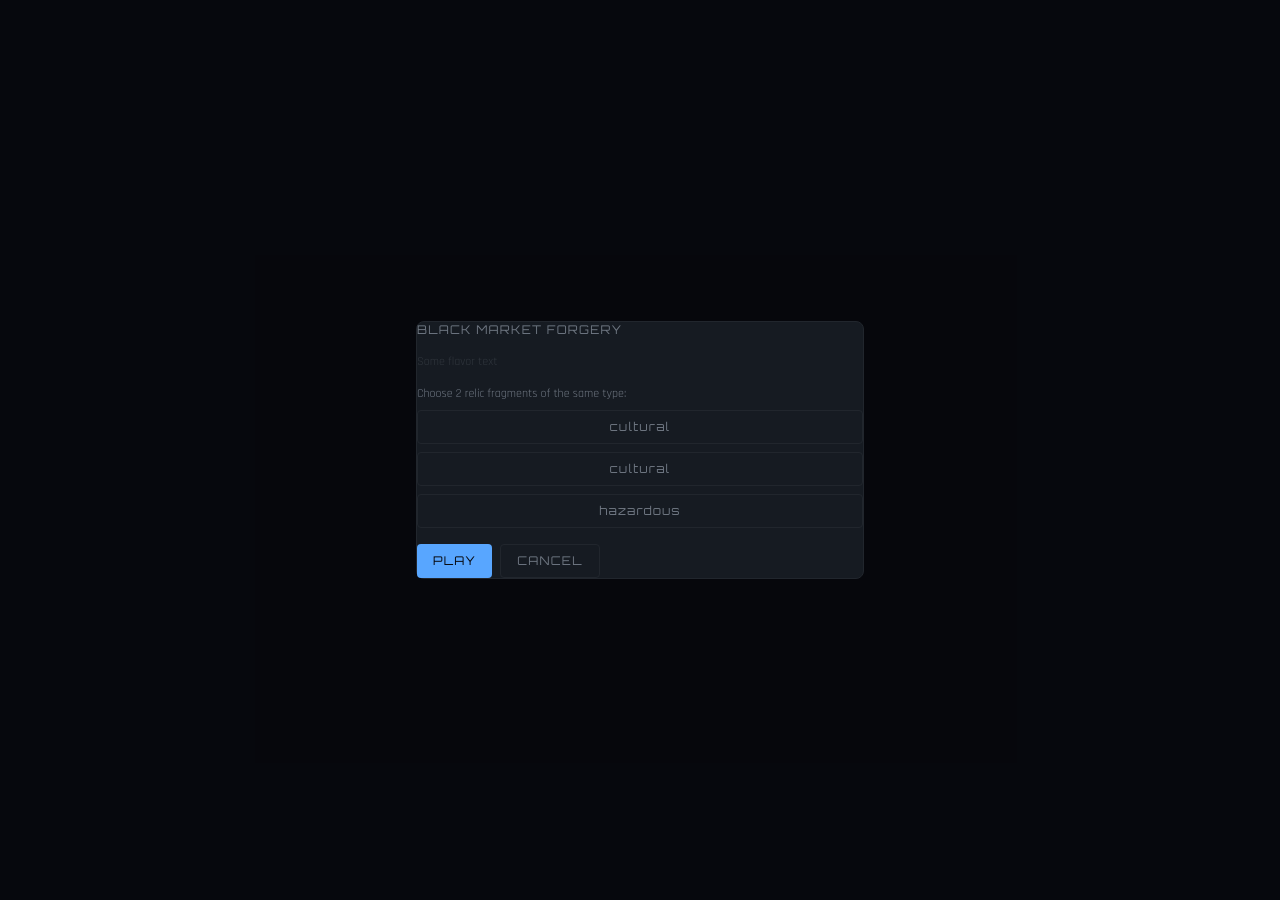
PlayPromissoryNoteModal › clicking PLAY with 2 different-type fragments shows type mismatch error
This screenshot has width=1280, height=900.
Click the 1st button "cultural".
click(640, 427)  # box top-left (417, 410), bottom-right (863, 444)
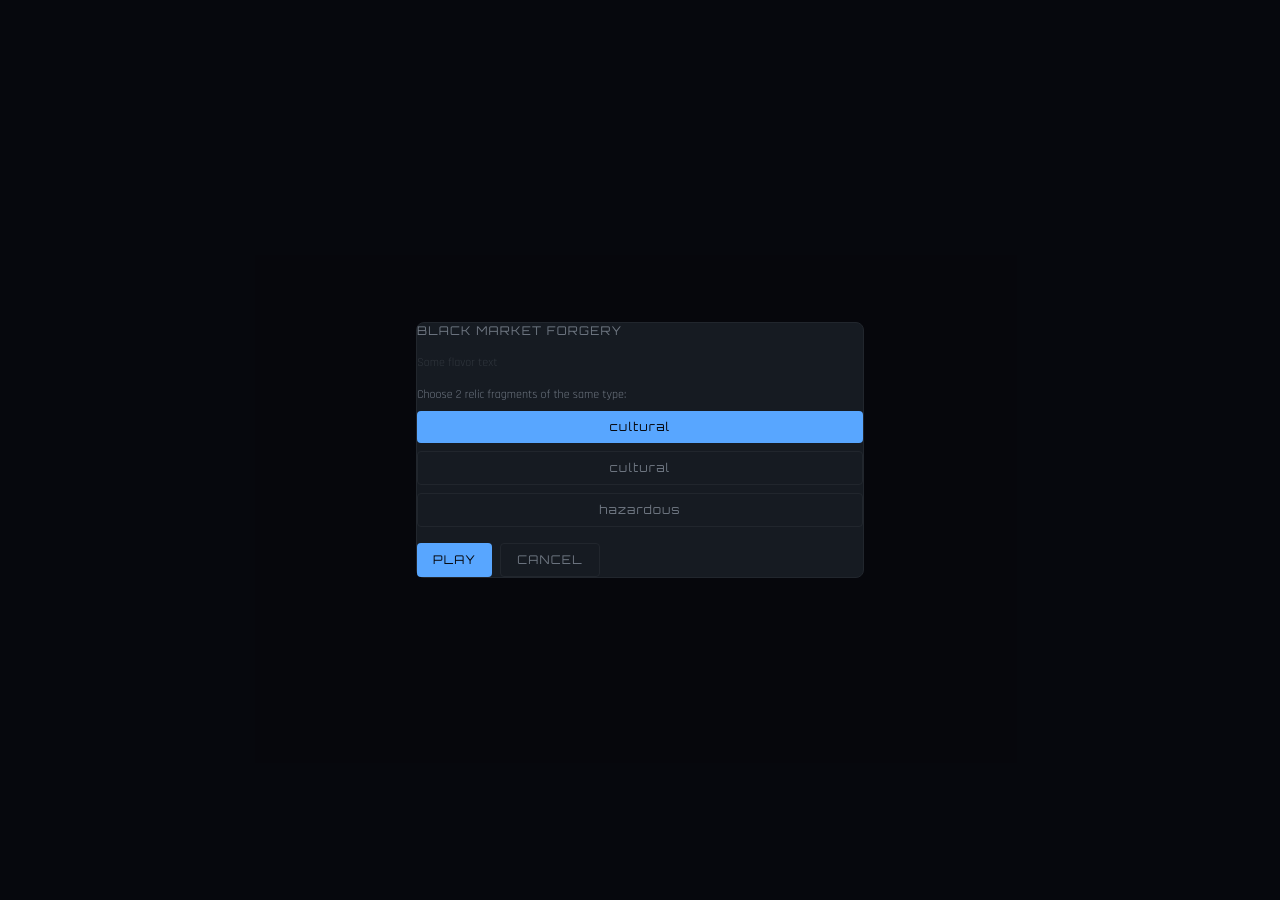
Click the button "hazardous".
click(640, 510)  # box top-left (417, 493), bottom-right (863, 527)
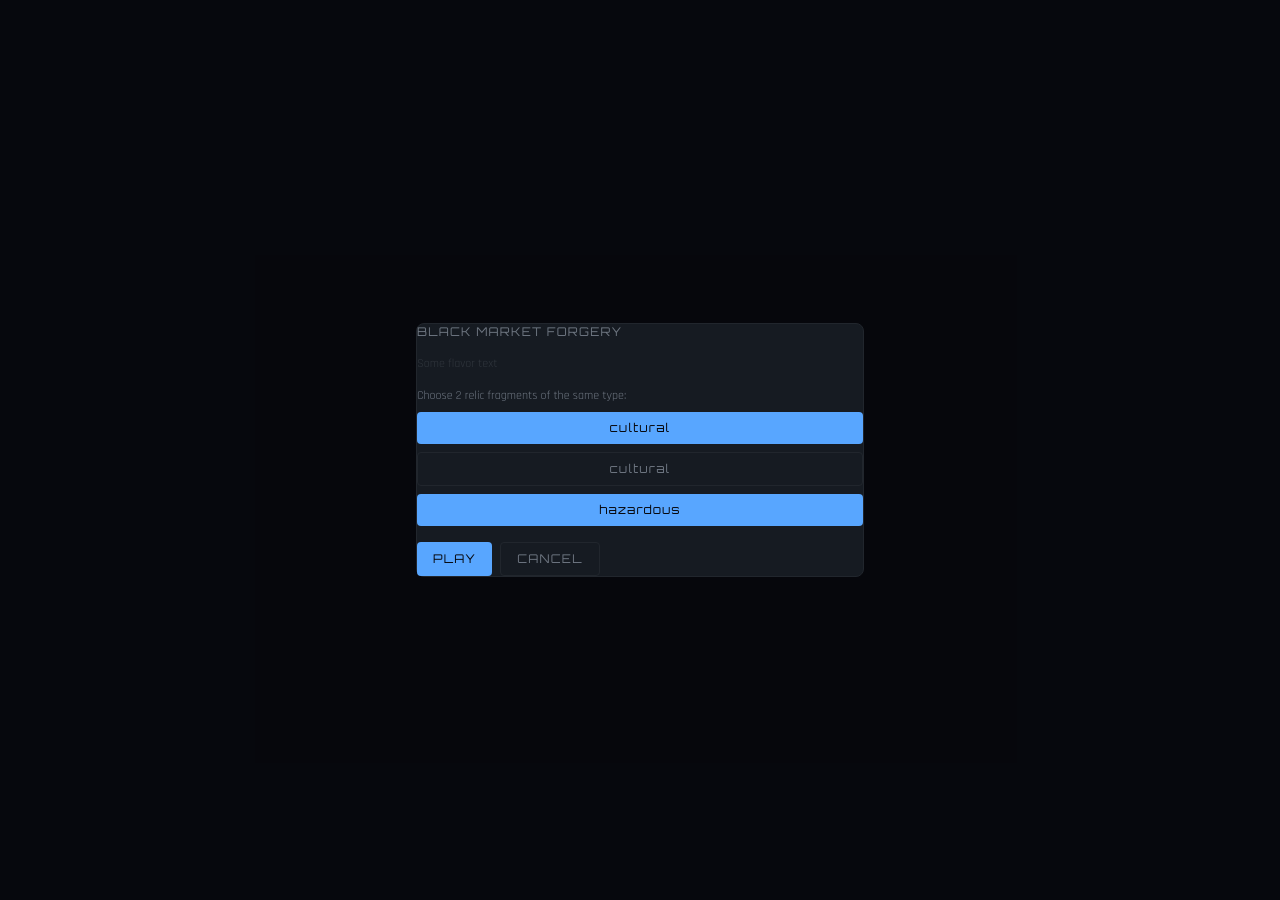
Click the button "PLAY".
click(455, 559)  # box top-left (417, 542), bottom-right (492, 576)
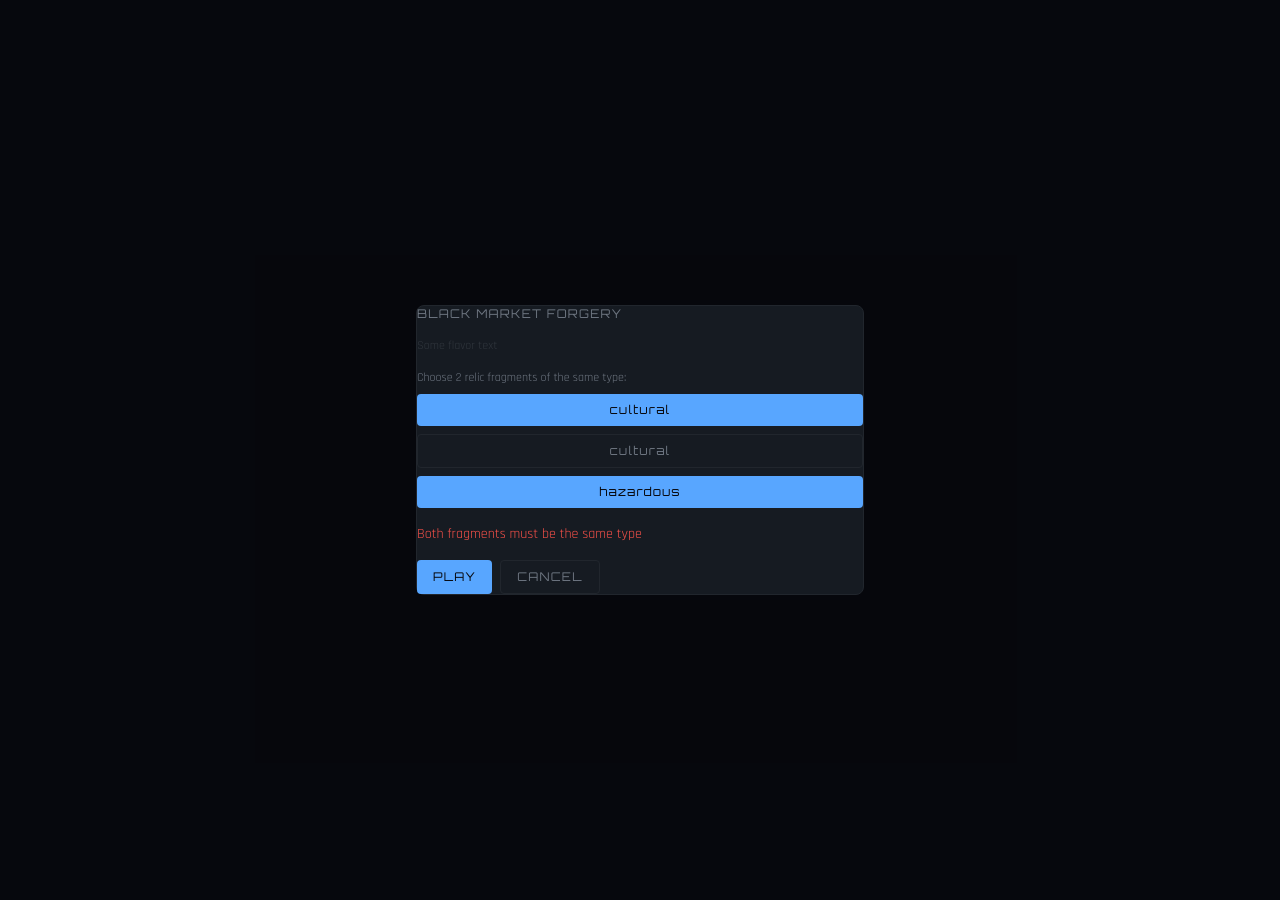
Check: the text "Both fragments must be the same type" is shown, box top-left (417, 525), bottom-right (642, 543)
